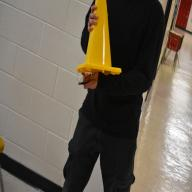cone: (76, 0, 122, 75)
